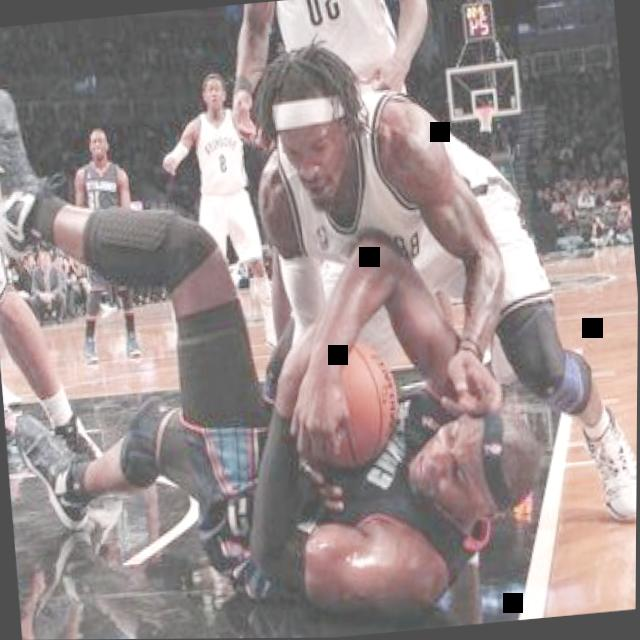Fall-Detected: (0, 48, 558, 640)
